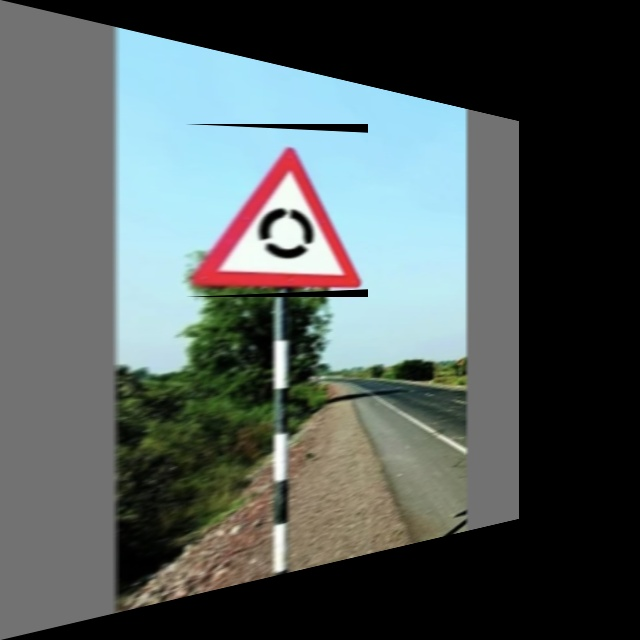Round_About: (185, 124, 368, 297)
